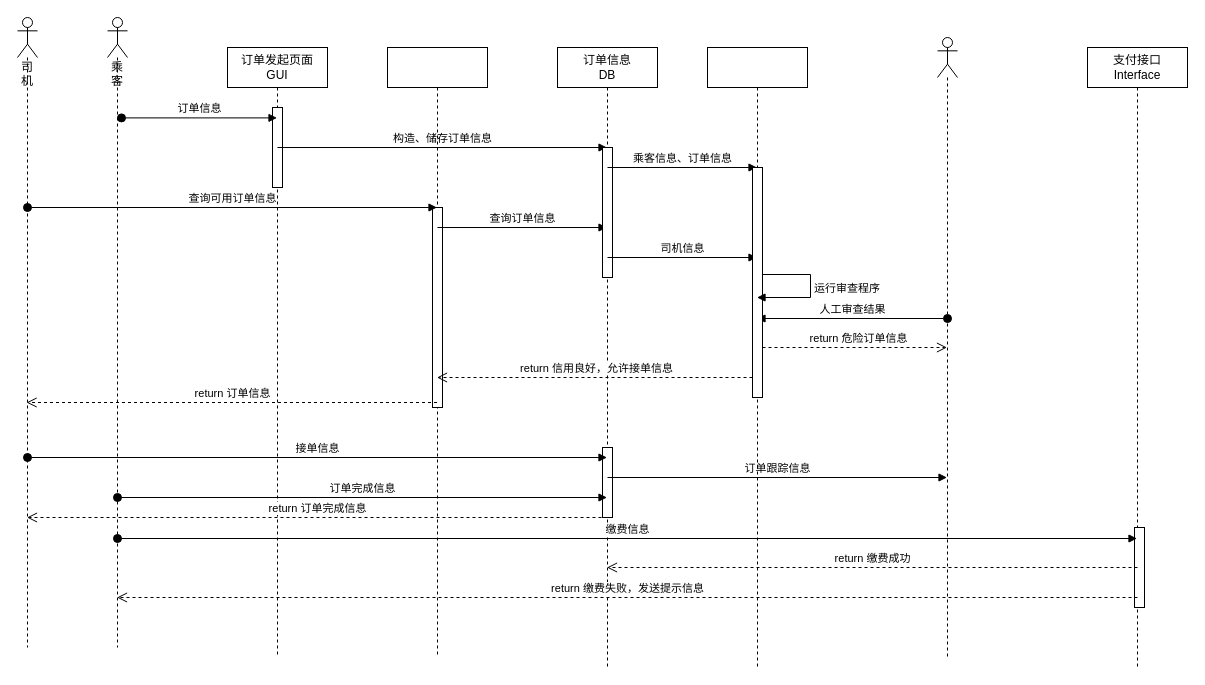
Image size: 1205x685. Some labels were removed from this diagram. The shapes that lost their labels are listed below. From the top down, each one's box as (x1, y1, x2, y2) in pixels, then its label:
(386, 46, 488, 658): 订单查询页面 GUI
(706, 46, 808, 668): 后台审核页面 GUI
(936, 36, 958, 658): 管理员
